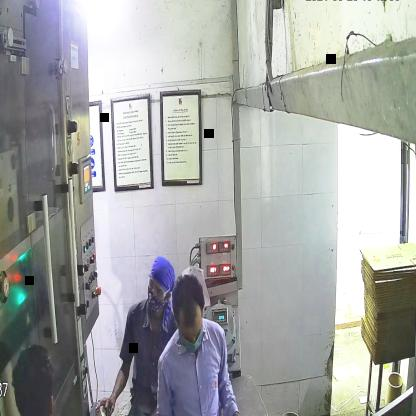goggles: (144, 276, 170, 304)
